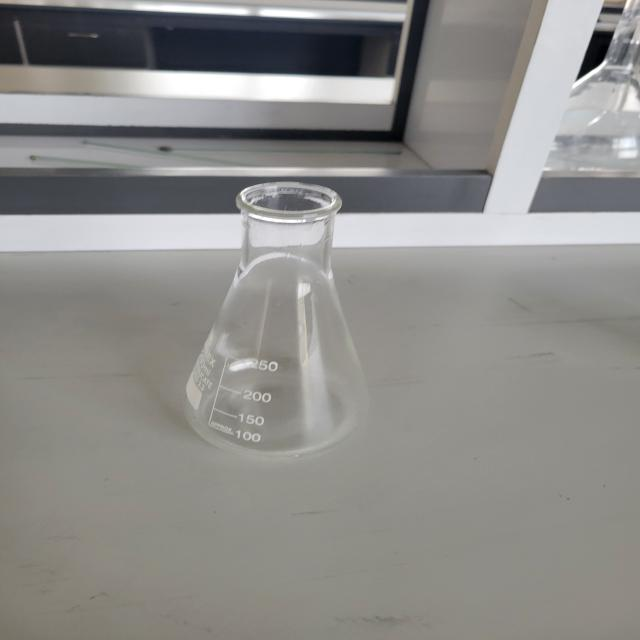Conical_Flask: (165, 160, 394, 482)
